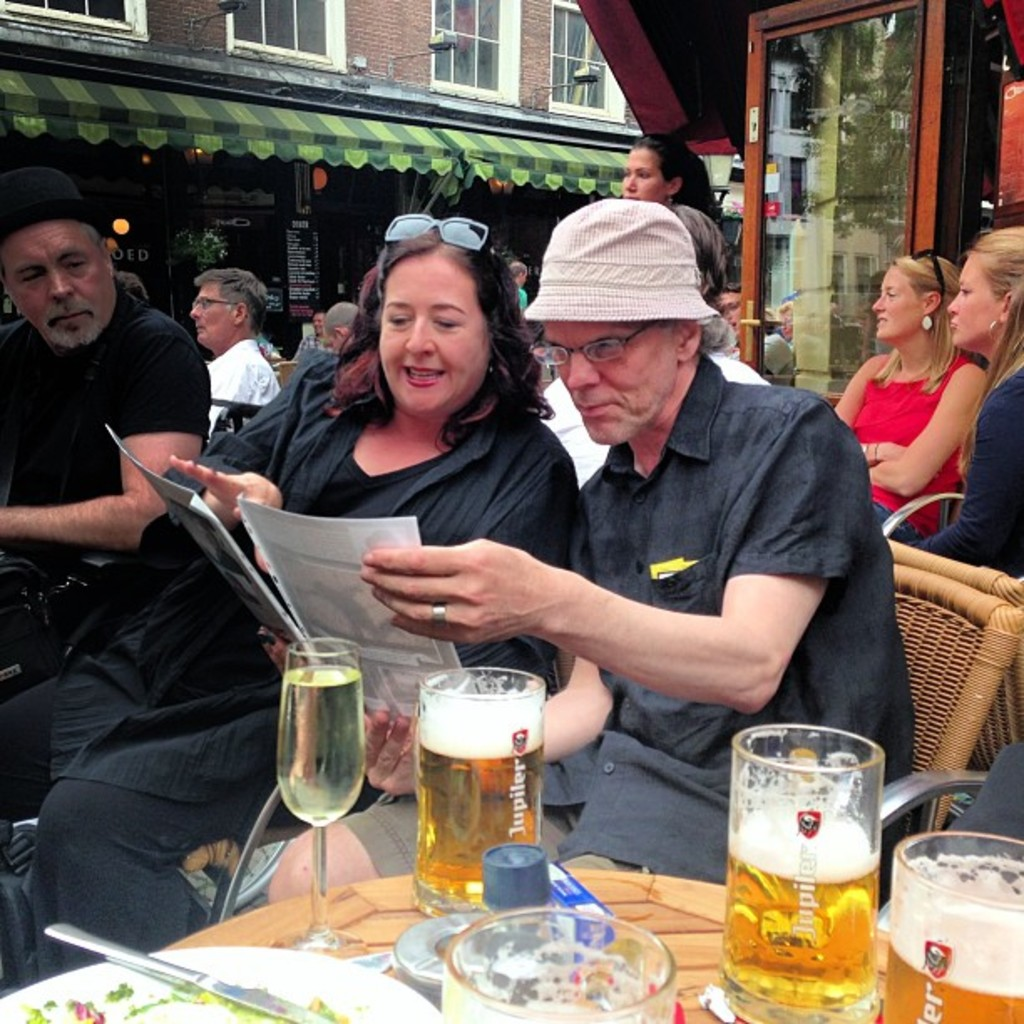Beer: (711, 806, 876, 1018), (398, 717, 547, 900), (875, 933, 1022, 1020)
